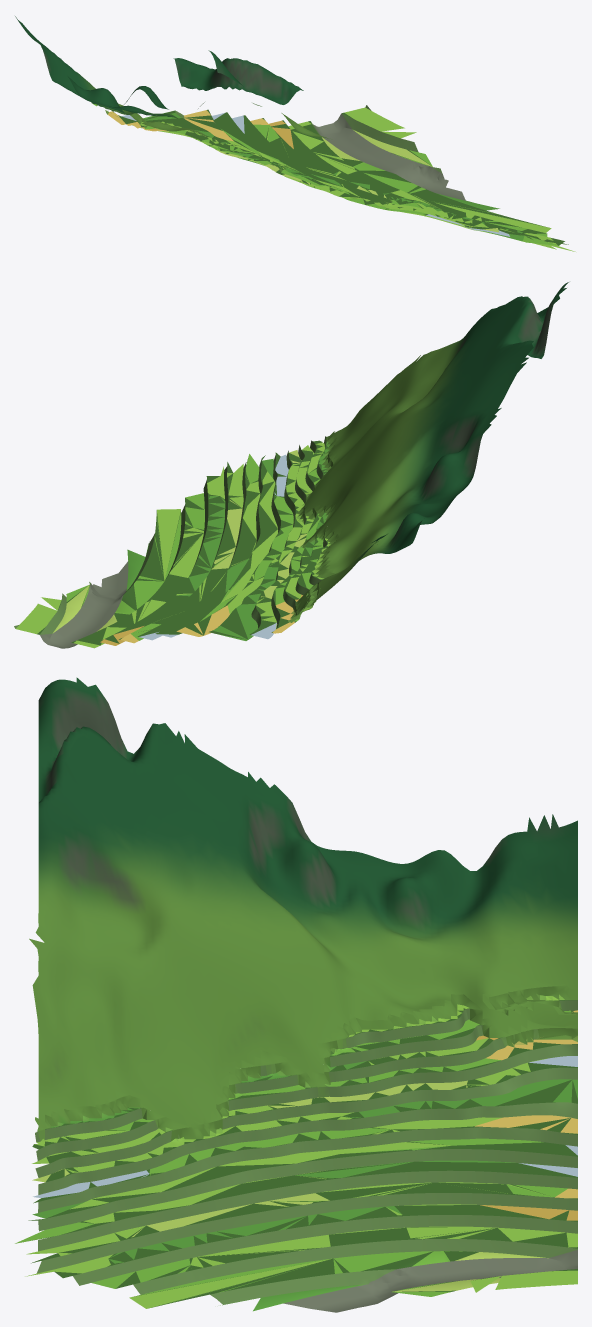
Rendered from payo_land_x0_y3.glb.
3 views of the same model, one above another, from view 1: azimuth 30°, elevation 25°; view 2: azimuth 150°, elevation 25°; view 3: azimuth 270°, elevation 25° (orthographic). The views are drawn at different scales.
Parts seen in each view (by area): view 1: payo_land_x0_y3; view 2: payo_land_x0_y3; view 3: payo_land_x0_y3.
Boxes of the visible parts, x1,y1,x2,y2 form: payo_land_x0_y3: (15, 16, 575, 251); payo_land_x0_y3: (14, 282, 568, 648); payo_land_x0_y3: (15, 677, 577, 1312).
Size of the model in its own units: 275 by 210 by 267.
